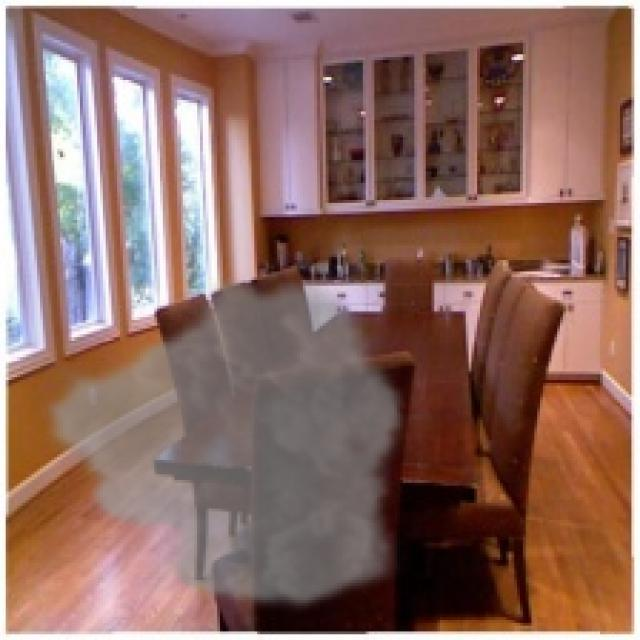Smoke: (37, 268, 409, 614)
